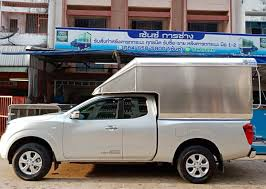pickup: (3, 91, 256, 183)
